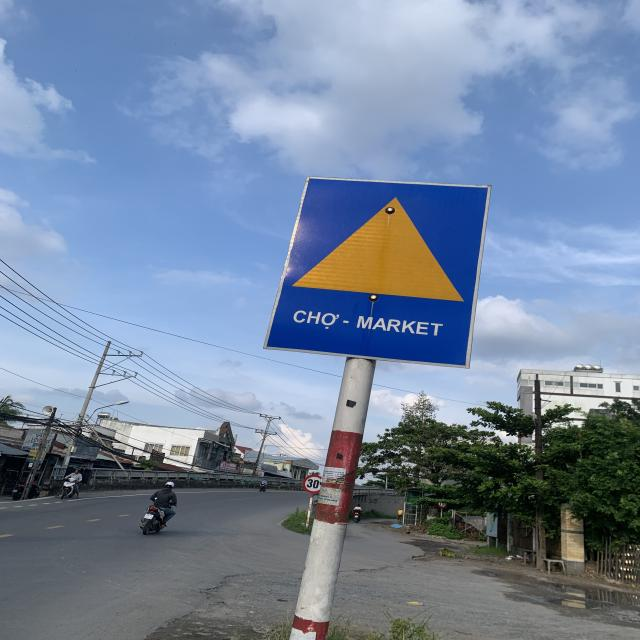Cho_Quay_Xe: (267, 176, 489, 365)
